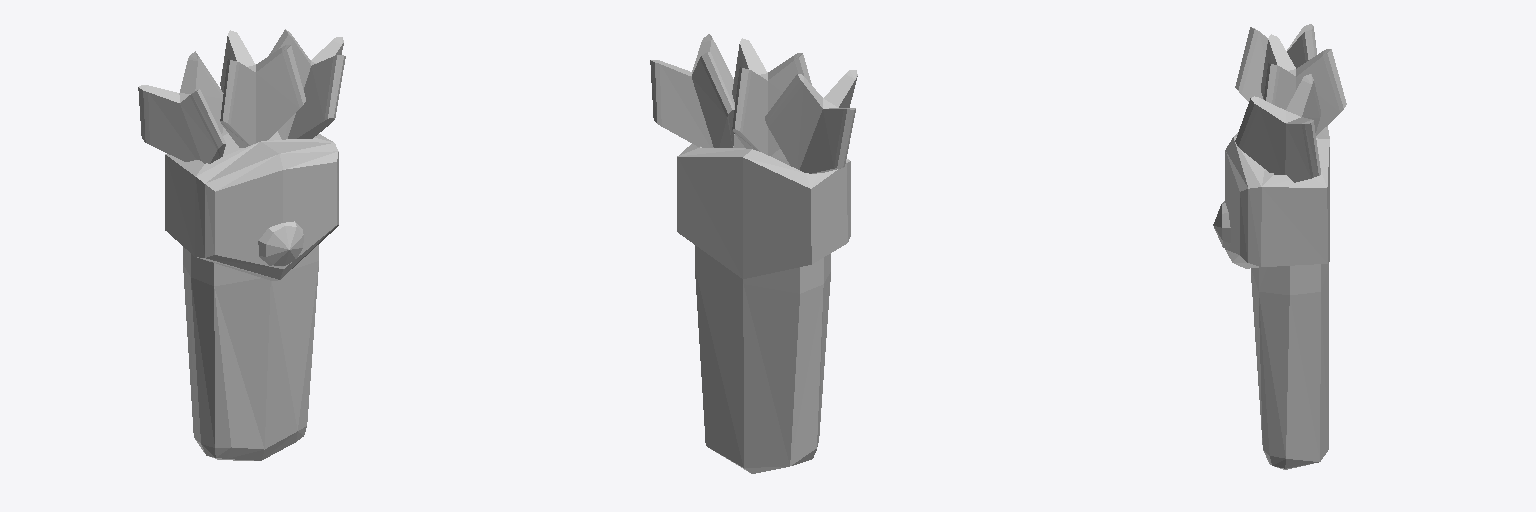
File: quiver_full.obj
3 views of the same model, side by side, from view 1: azimuth 30°, elevation 25°; view 2: azimuth 150°, elevation 25°; view 3: azimuth 270°, elevation 25° (orthographic).
Visible parts, largest first — view 1: quiver_full_Cube.3999; view 2: quiver_full_Cube.3999; view 3: quiver_full_Cube.3999.
Boxes of the visible parts, x1=… form: quiver_full_Cube.3999: x1=138, y1=29, x2=345, y2=460; quiver_full_Cube.3999: x1=650, y1=34, x2=857, y2=473; quiver_full_Cube.3999: x1=1213, y1=24, x2=1346, y2=469.
Size of the model in its own units: 0.3592 by 0.6959 by 0.2039.